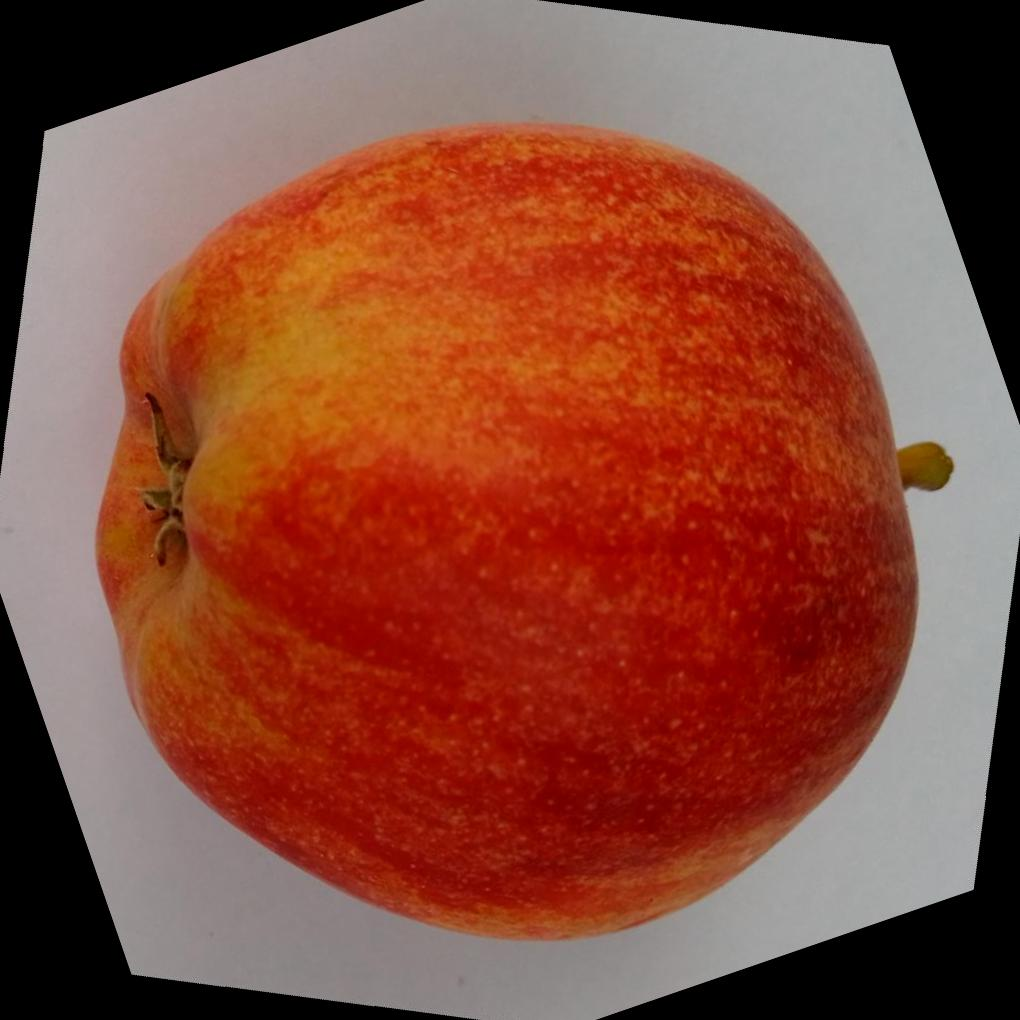FreshGuava: (89, 122, 918, 944)
